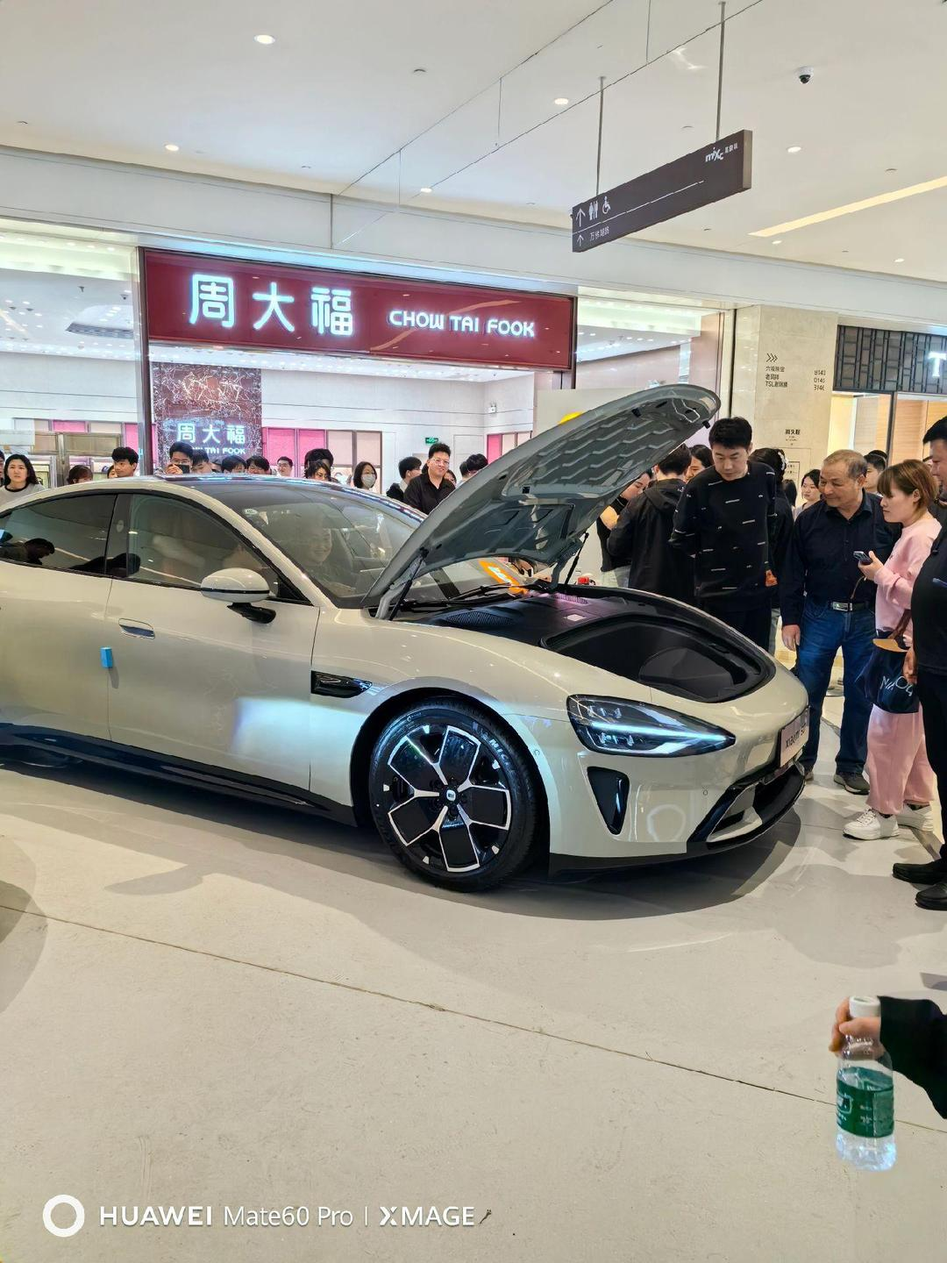su7: (0, 469, 850, 885)
